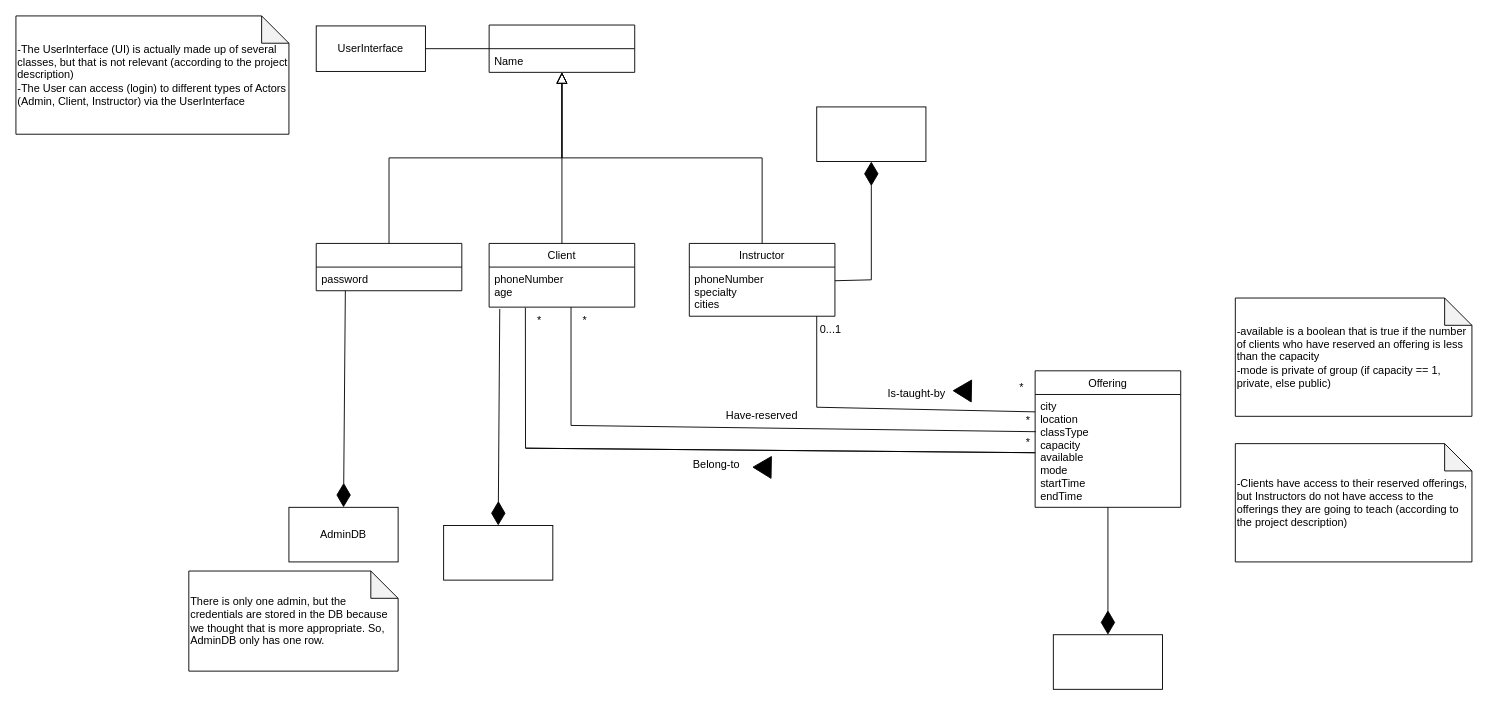
Some shapes in this 1488 by 705 pixel diagram are drawn without their labels. The shapes that lost their labels are listed below. From the top down, each one's box as (x1, y1, x2, y2) in pixels, then its label:
(488, 24, 635, 72): Actor
(816, 106, 926, 162): InstructorsDB
(315, 243, 462, 291): Admin
(443, 525, 553, 580): ClientsDB
(1052, 634, 1163, 689): OfferingsDB
